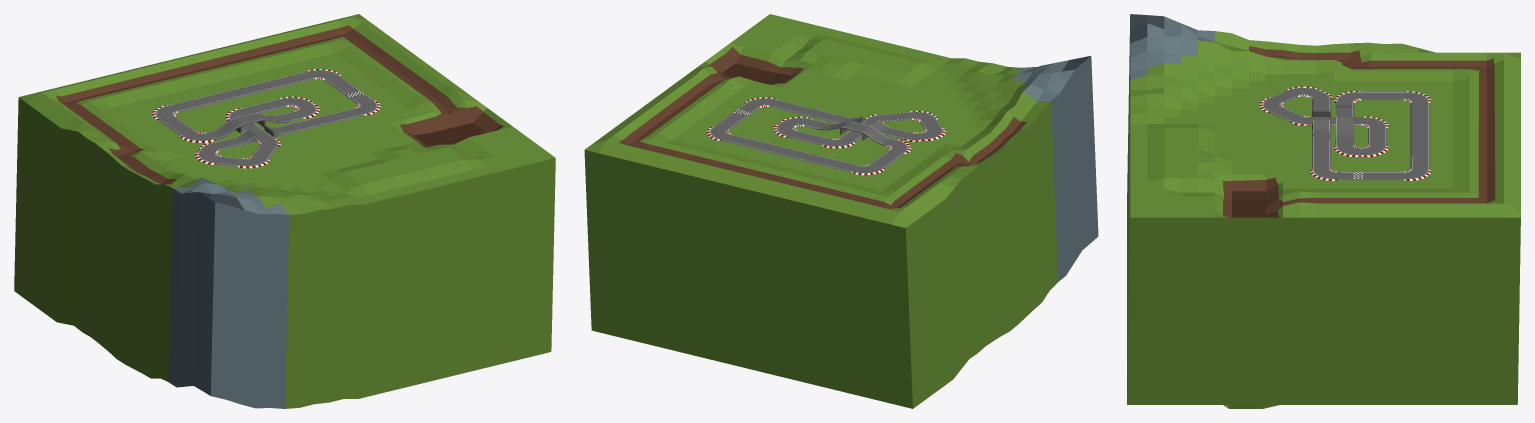
Rendered from track and field 1.fbx.
The picture shows the model from 3 angles, left to right: view 1: azimuth 30°, elevation 25°; view 2: azimuth 150°, elevation 25°; view 3: azimuth 270°, elevation 25°; orthographic projection. The views are drawn at different scales.
Visible parts, largest first — view 1: field 1, track 1; view 2: field 1, track 1; view 3: field 1, track 1.
Part boxes in pixels (x1,y1,x2,y2): field 1: (14, 14, 555, 408); track 1: (152, 69, 380, 168); field 1: (584, 14, 1098, 408); track 1: (706, 97, 946, 175); field 1: (1127, 14, 1520, 408); track 1: (1259, 86, 1431, 180).
Size of the model in its own units: 235 by 157 by 233.
2 materials, 2 textured.
